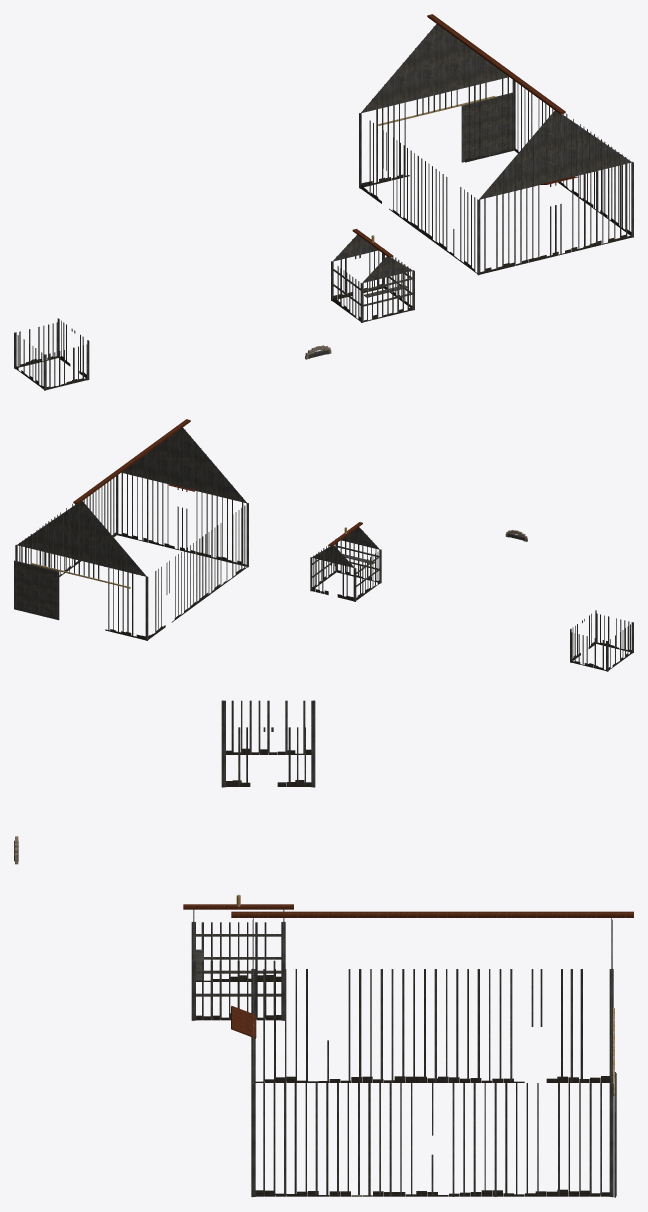
The model's file is hollow_outbuildings_trim.glb.
The picture shows the model from 3 angles, top to bottom: view 1: azimuth 30°, elevation 25°; view 2: azimuth 150°, elevation 25°; view 3: azimuth 270°, elevation 25°; orthographic projection. The views are drawn at different scales.
Visible parts, largest first — view 1: hollow_outbuildings_trim; view 2: hollow_outbuildings_trim; view 3: hollow_outbuildings_trim.
Boxes of the visible parts, x1,y1,x2,y2 form: hollow_outbuildings_trim: [14, 14, 633, 390]; hollow_outbuildings_trim: [14, 419, 633, 671]; hollow_outbuildings_trim: [14, 700, 633, 1197].
Size of the model in its own units: 35.17 by 8.37 by 20.78.
Materials: 7 (7 with a texture image).
